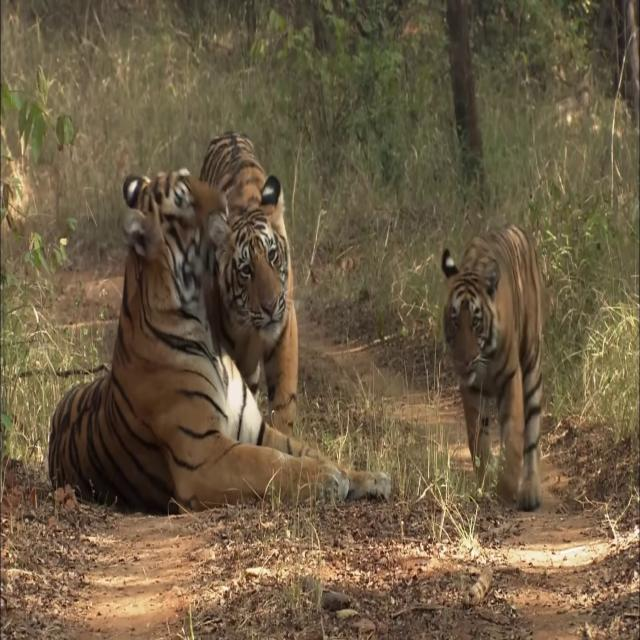tiger: (47, 168, 393, 508), (439, 222, 549, 508), (199, 131, 299, 438)
